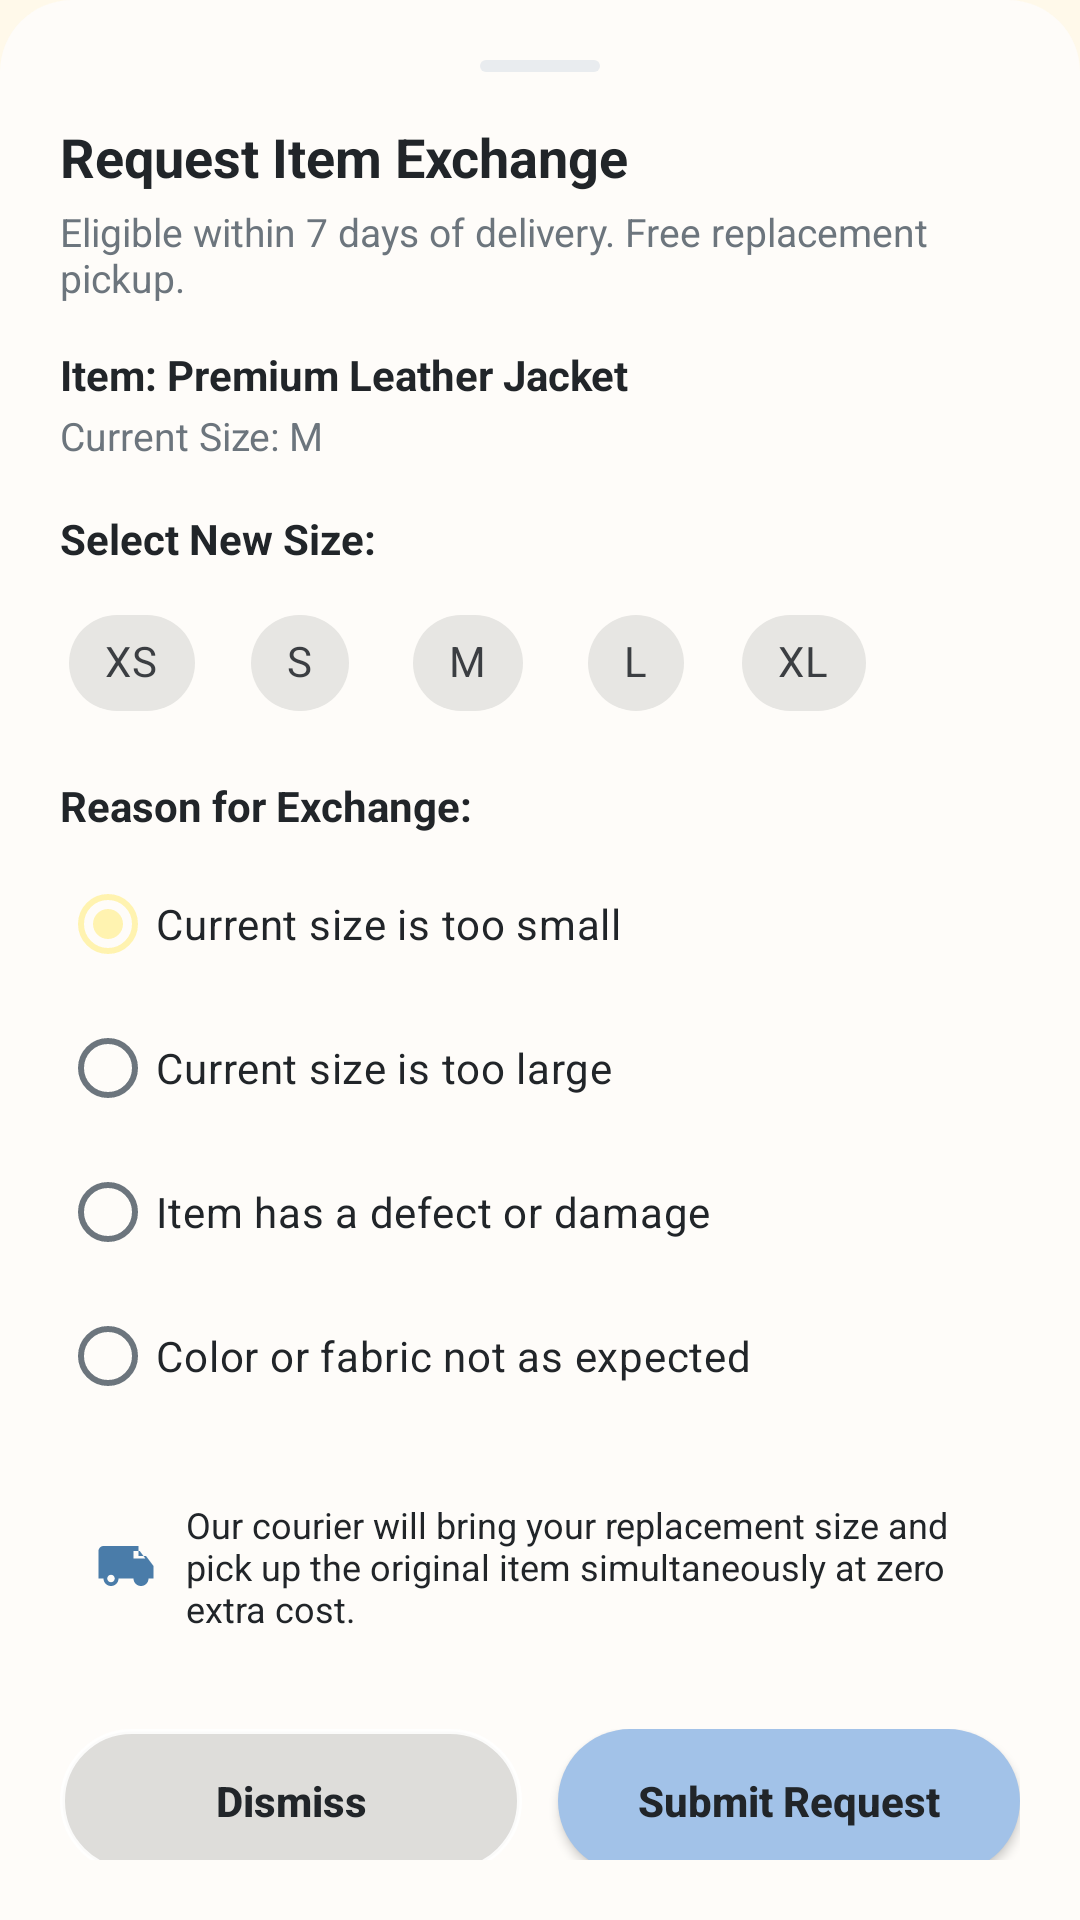

Screen size 1080px×1920px. Icon name, then its box in pixels as (x1, y1, x2, y2):
Shipping: (98, 1546, 154, 1586)
